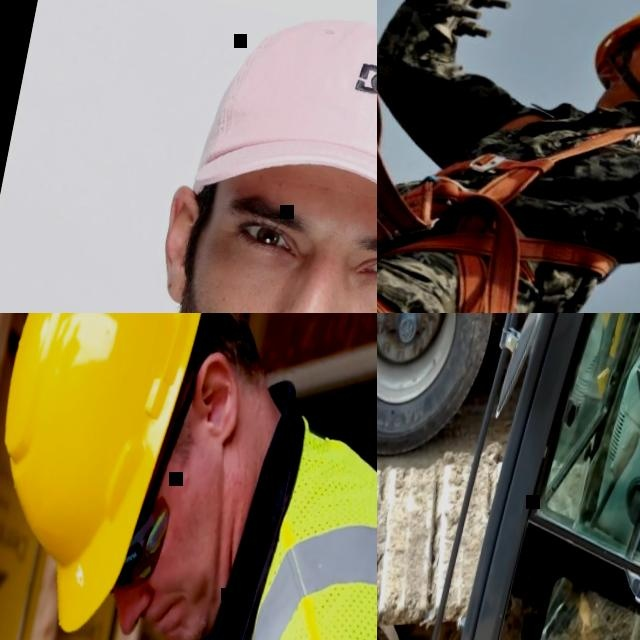Hardhat: (0, 313, 224, 640)
NO-Hardhat: (187, 3, 377, 280)
NO-Mask: (131, 453, 246, 640), (603, 39, 640, 104)
NO-Safety Vest: (410, 71, 640, 313)
Person: (0, 313, 377, 640), (0, 0, 377, 313), (377, 0, 640, 313), (589, 0, 640, 118)
Safety Vest: (156, 396, 377, 640)
machinery: (418, 313, 640, 640), (377, 313, 640, 532)
